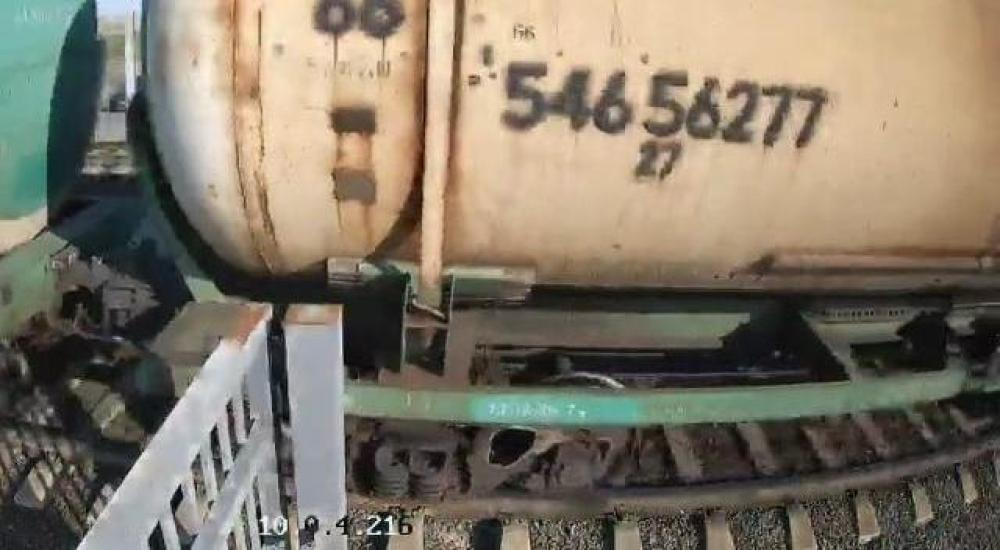Wagon-number: (498, 58, 835, 150)
